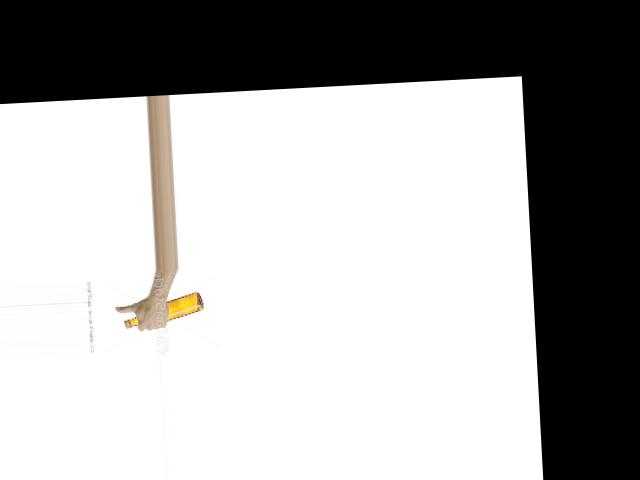beer: (123, 291, 204, 327)
